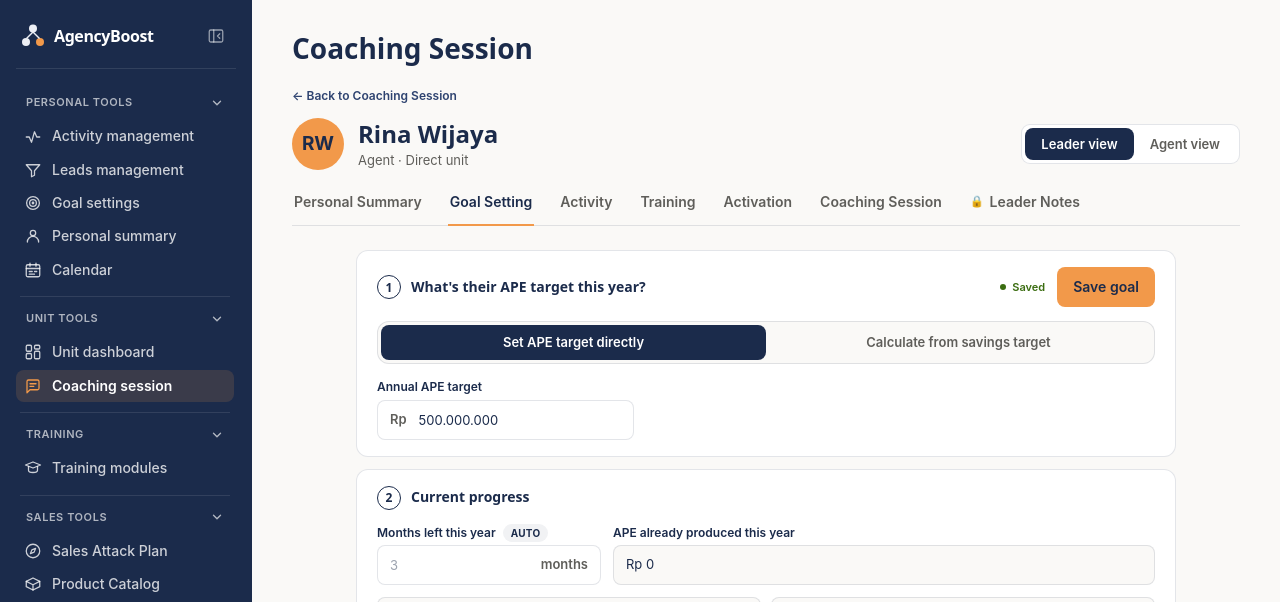
a coachee’s Goal Setting tab (P11-T7 AC-5) › P11-T7 AC-11 keeps step 1’s savings copy as /goals has it
This screenshot has width=1280, height=602.
Click the tab "Calculate from savings target". click: (958, 343)
box: left=766, top=325, right=1151, bottom=360
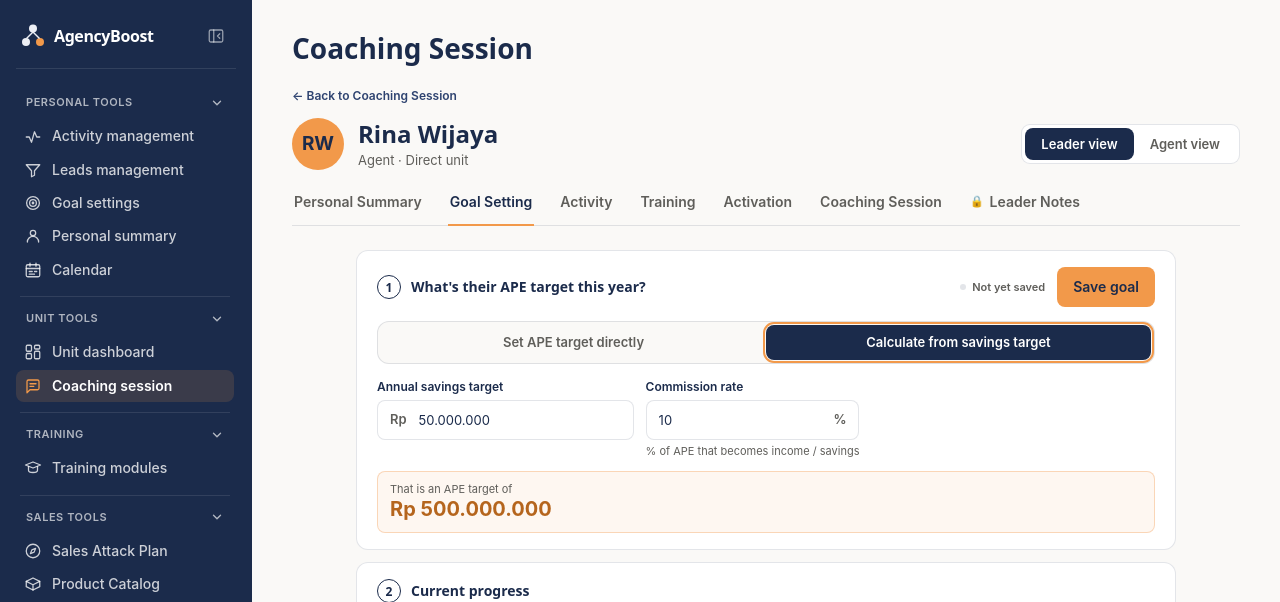
Result: the text "That is an APE target of" is shown at left=390, top=482, right=512, bottom=496
